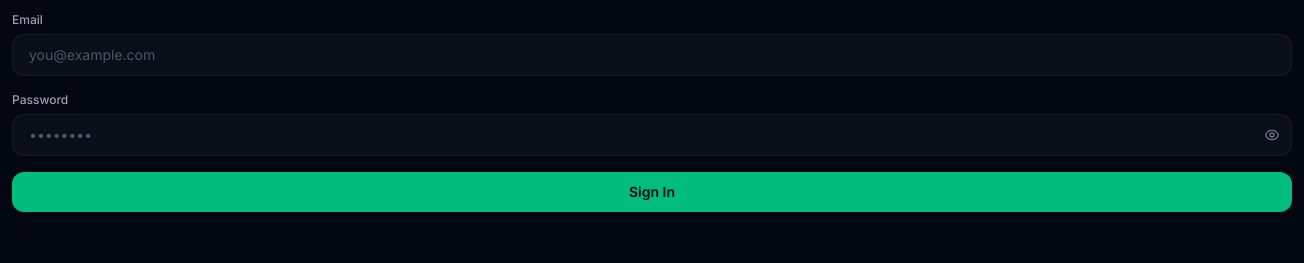
Test: LoginForm › shows error when submitted empty
Click the button "Sign In" at (652, 192), box [12, 172, 1292, 212]
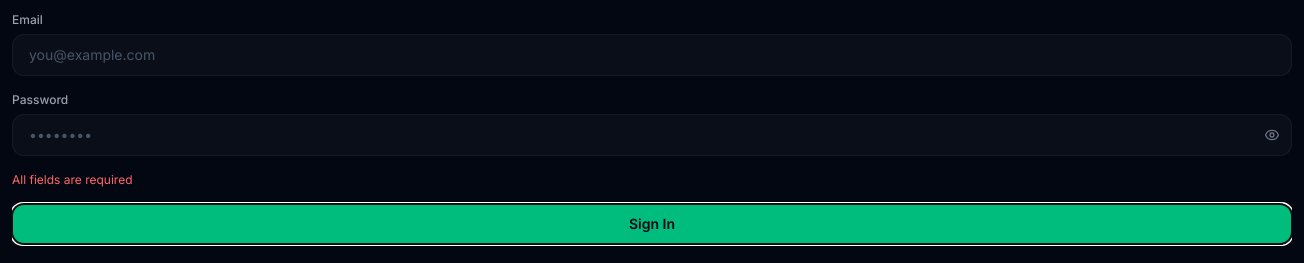
Expected: the text "All fields are required" is shown, [12, 172, 132, 187]
